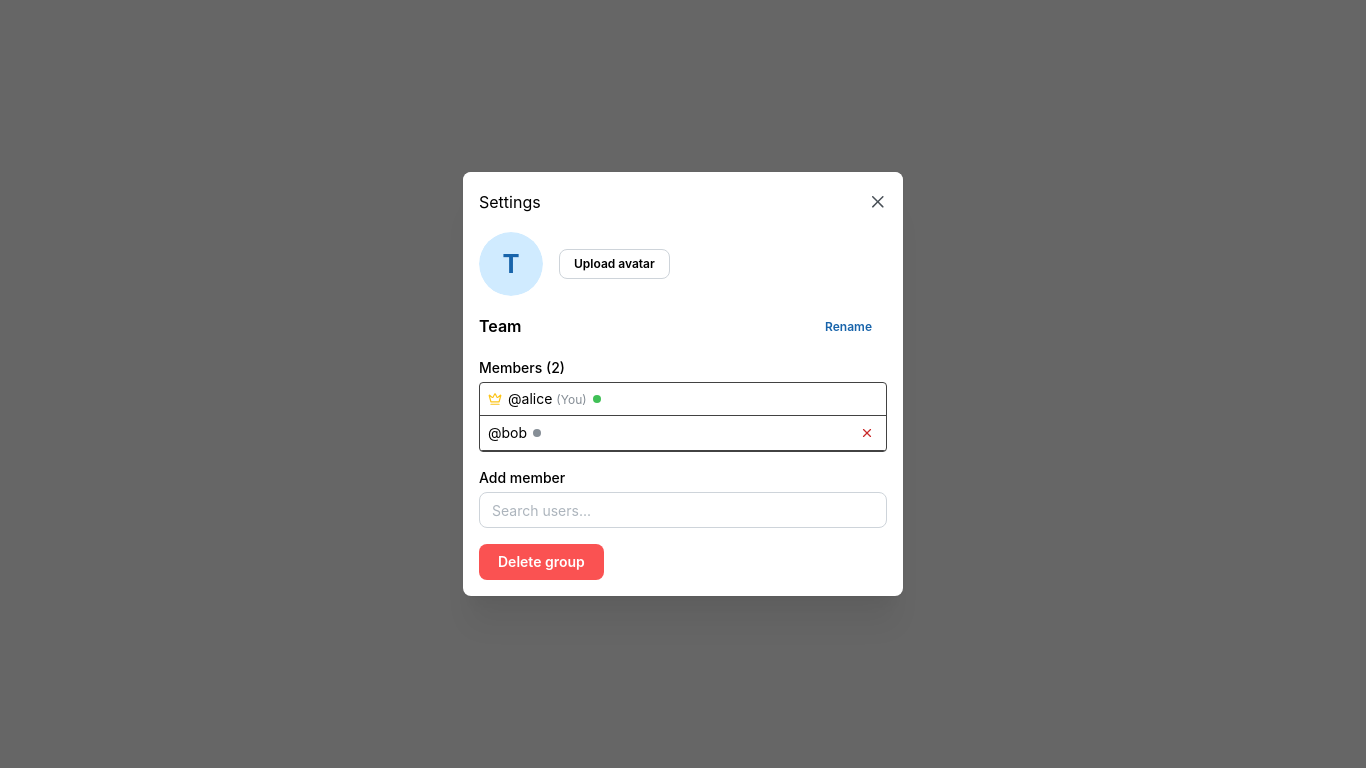
it: group settings modal › shows a rejected rename and keeps editing
Click the button "Rename" at (849, 326), box top-left (810, 312), bottom-right (887, 342)
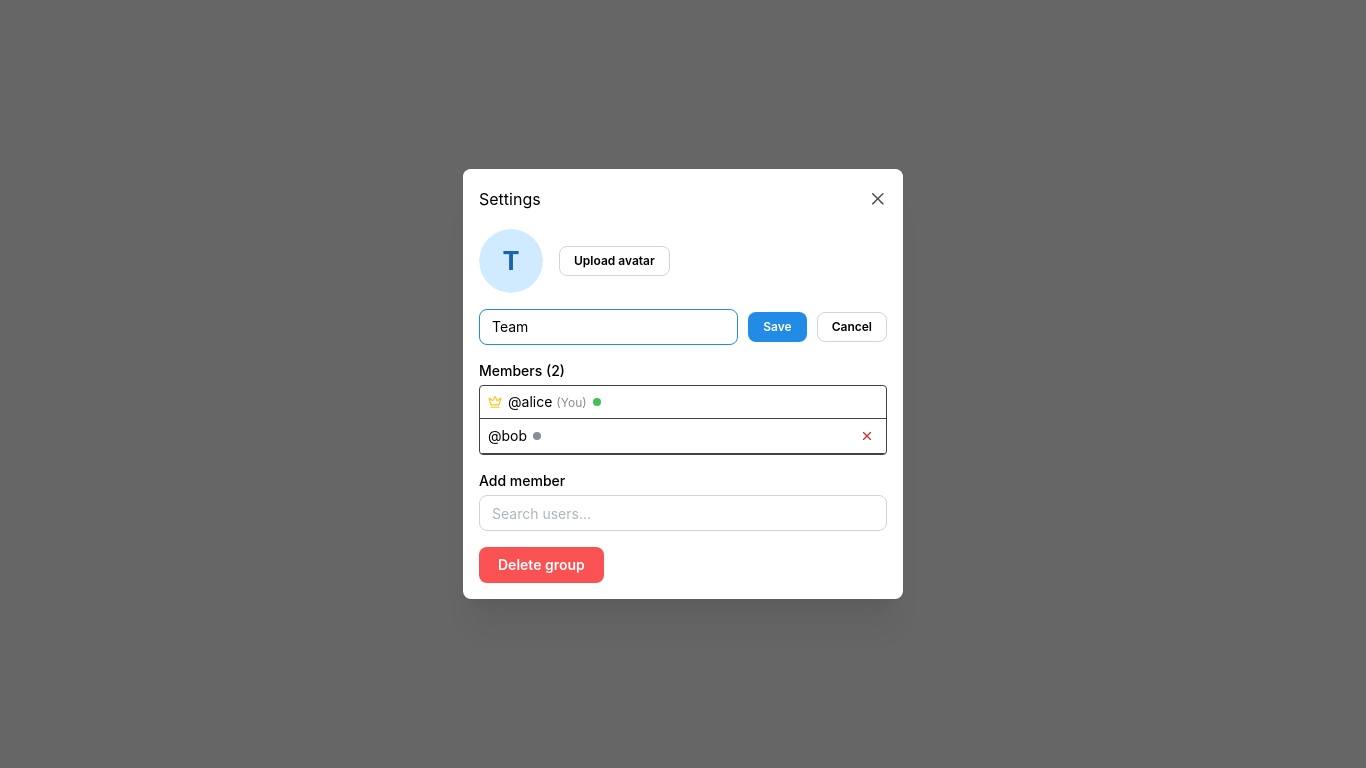
Replace the text in the field named "Group name" with "Nope" at (609, 326), box top-left (479, 308), bottom-right (738, 344)
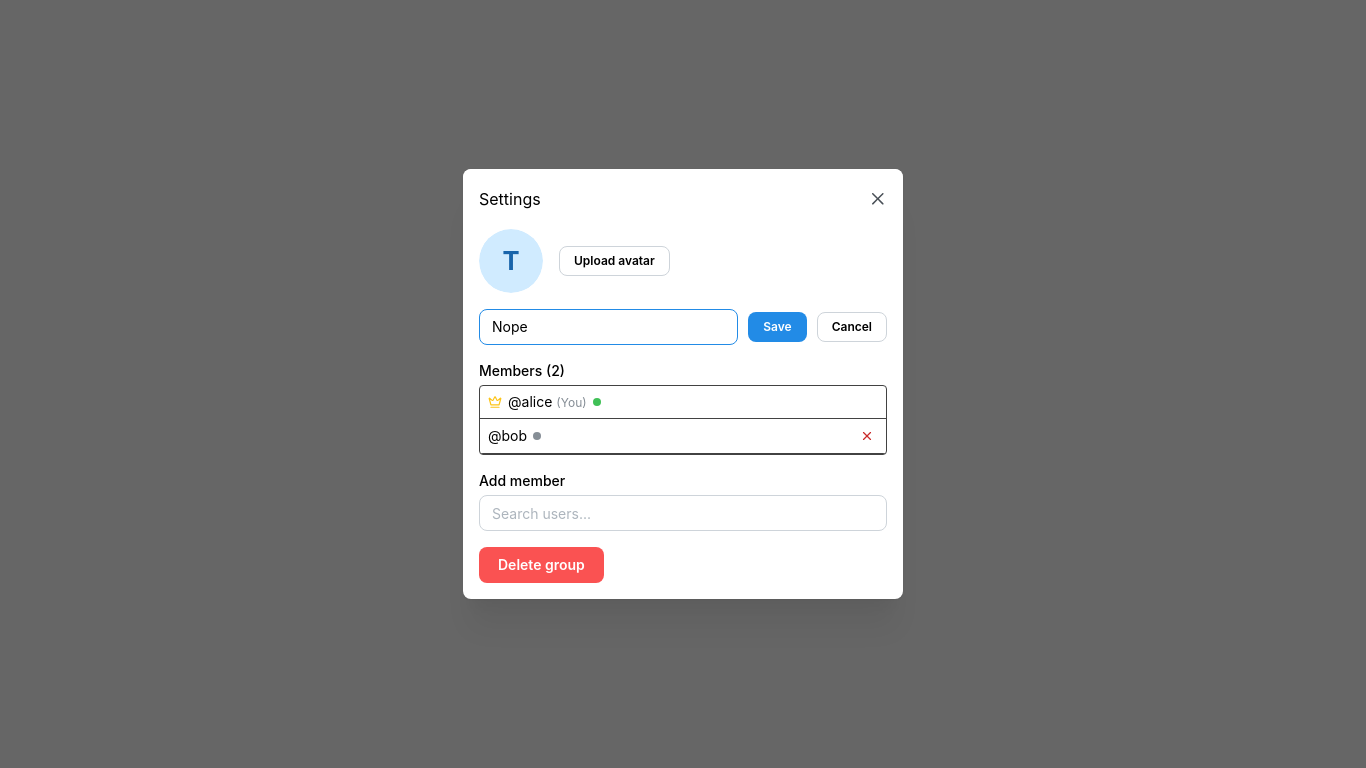
Click the button "Save" at (778, 326), box top-left (748, 312), bottom-right (807, 342)
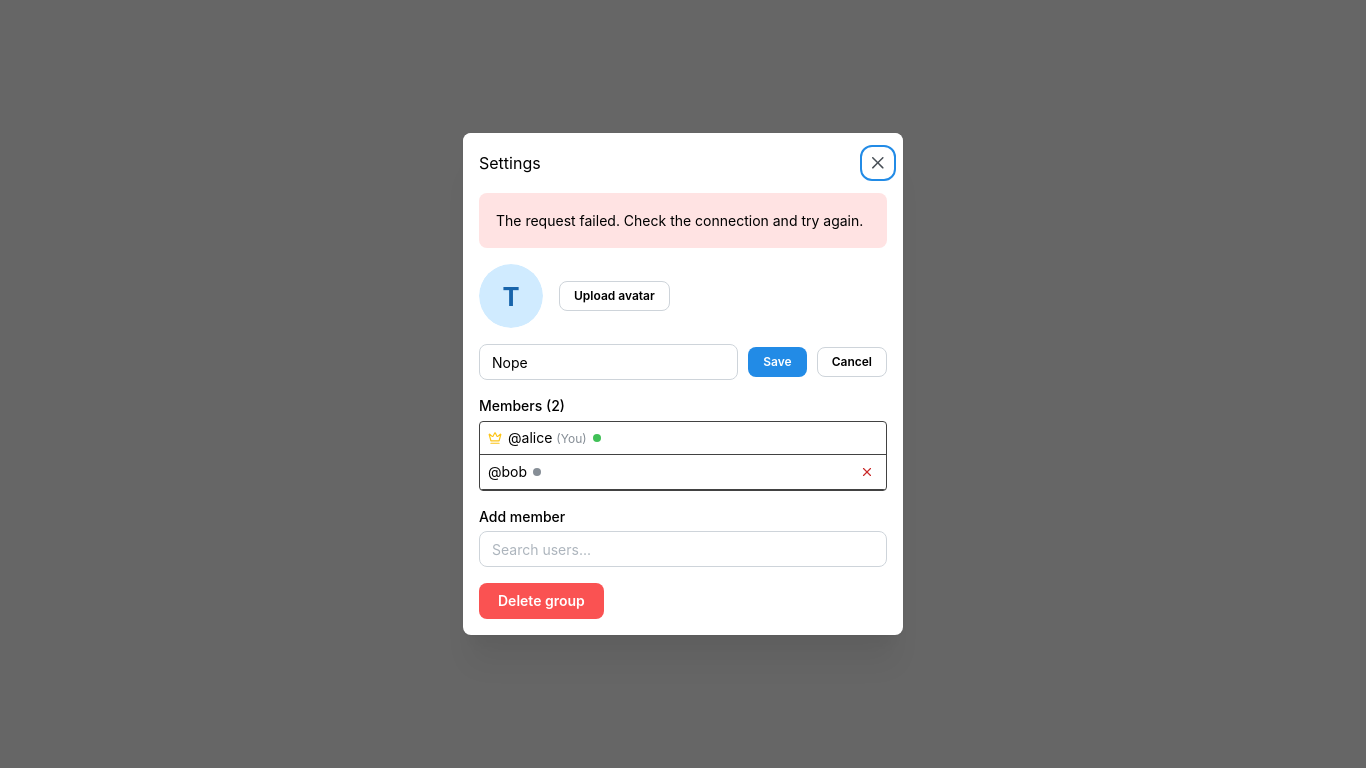
Check: the message "The request failed. Check the connection and try again." is shown, box top-left (479, 193), bottom-right (887, 248)
